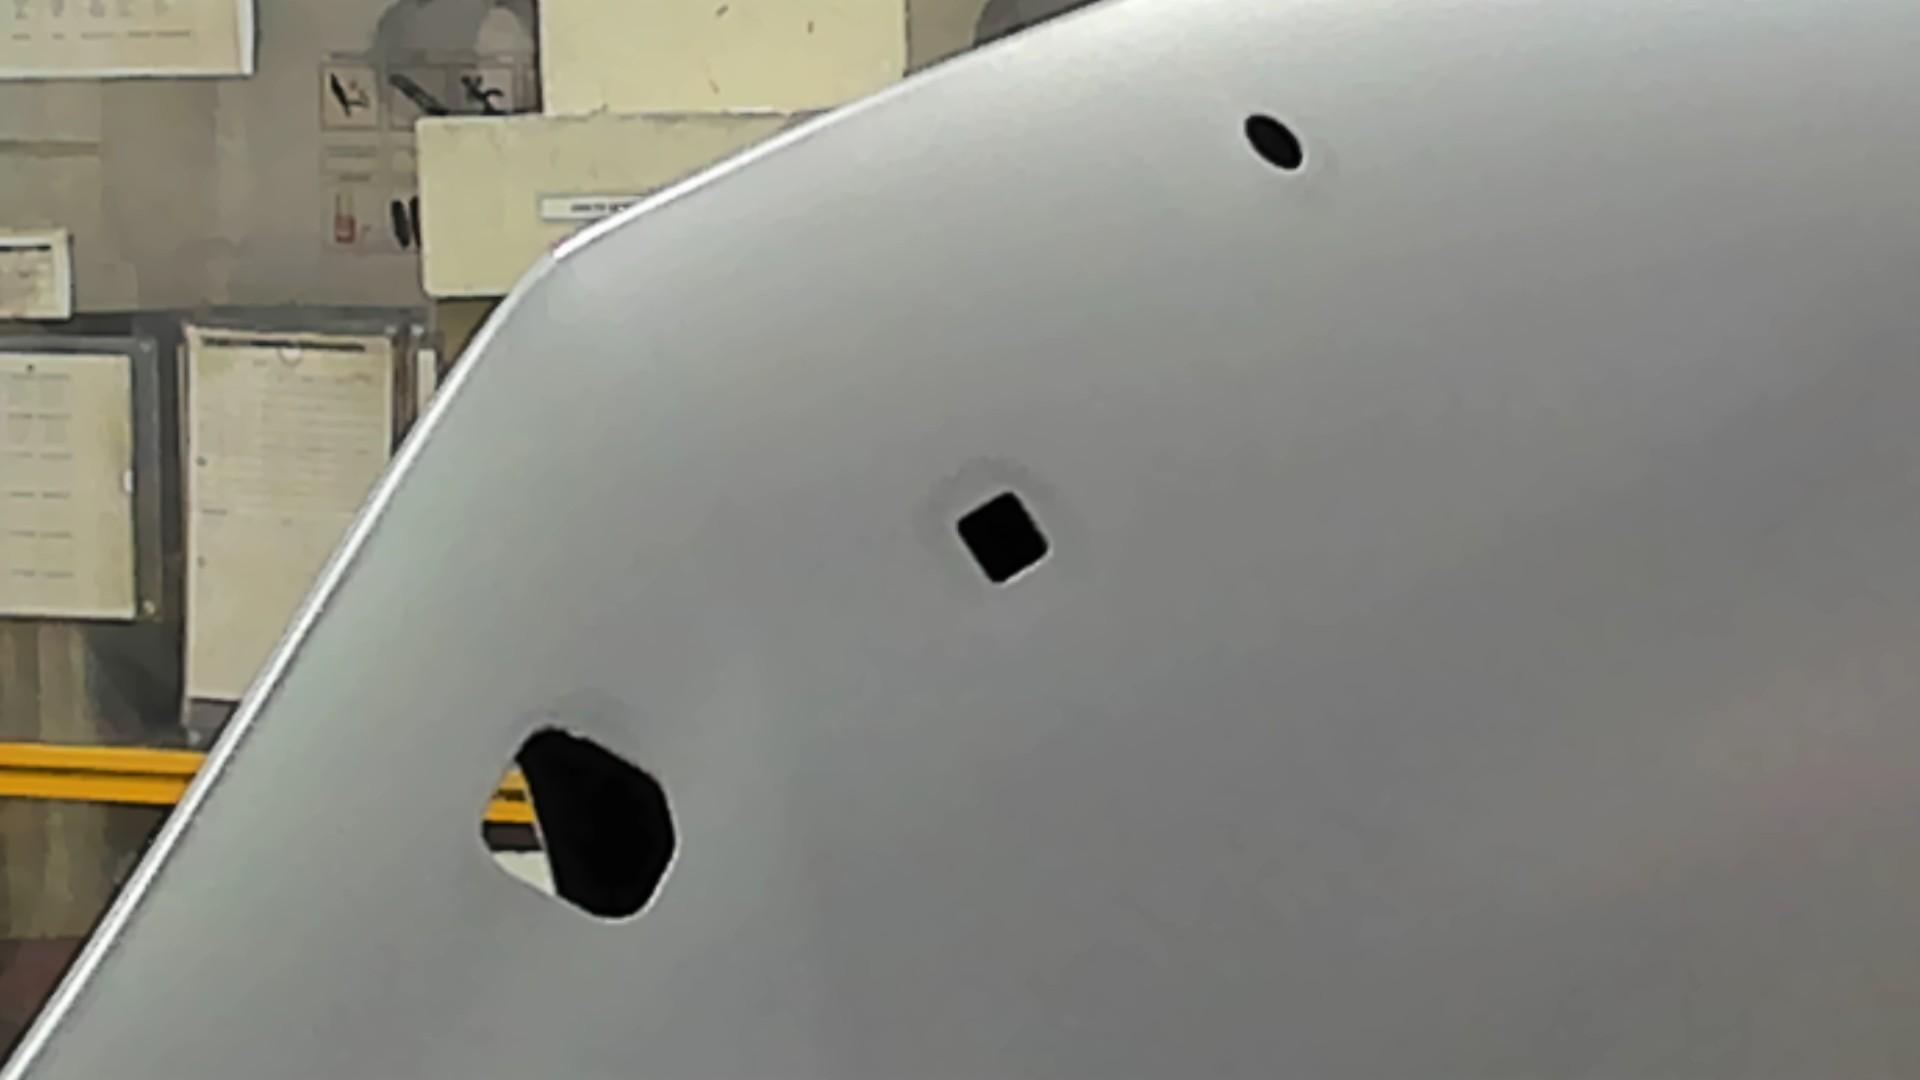chico: (1241, 109, 1305, 175)
grande: (477, 723, 684, 924)
mediano: (955, 489, 1054, 588)
